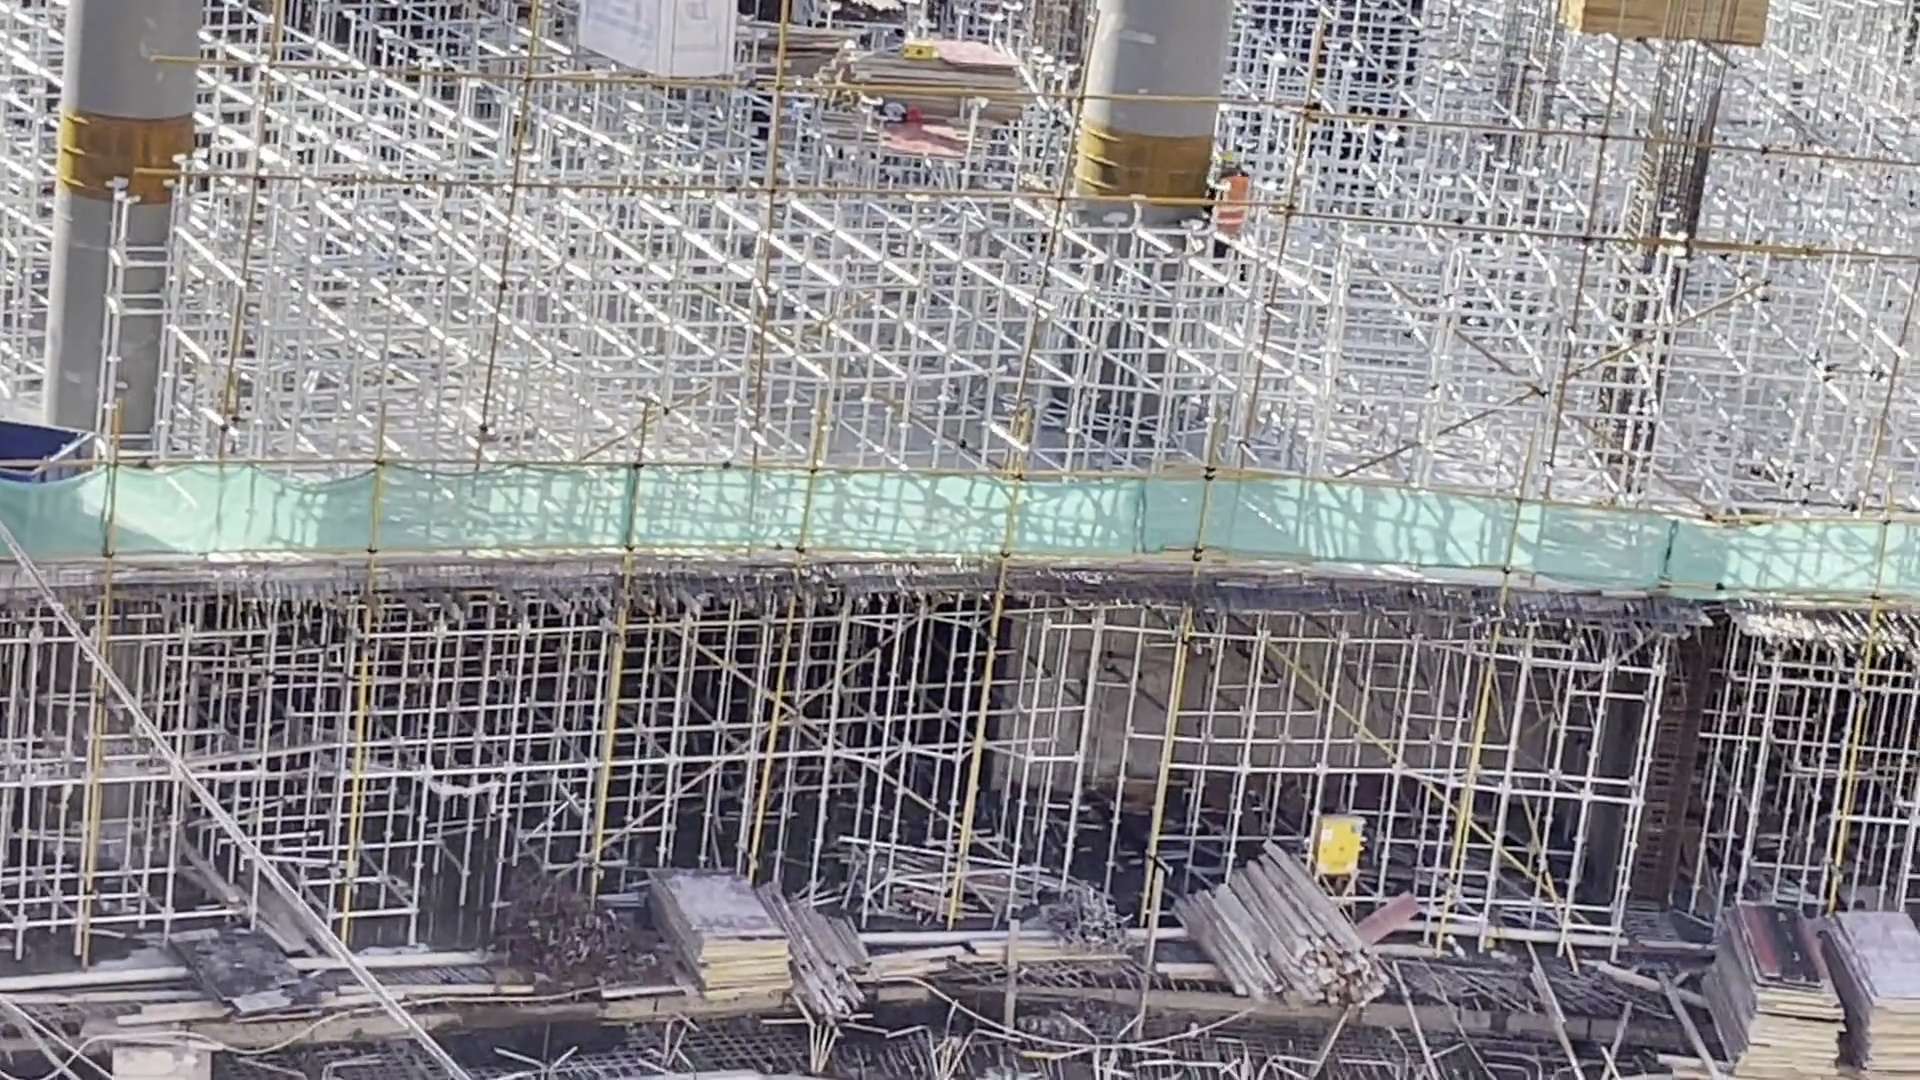board: (823, 26, 1026, 136), (1698, 906, 1834, 1069), (651, 867, 795, 1011), (1837, 900, 1920, 1079)
ebox: (1315, 810, 1368, 900)
helmet: (1213, 148, 1237, 166)
hopper: (1, 421, 106, 490)
person: (1209, 152, 1250, 268)
vest: (1217, 177, 1250, 243)
wood: (1171, 849, 1388, 1017), (1561, 1, 1776, 67)
